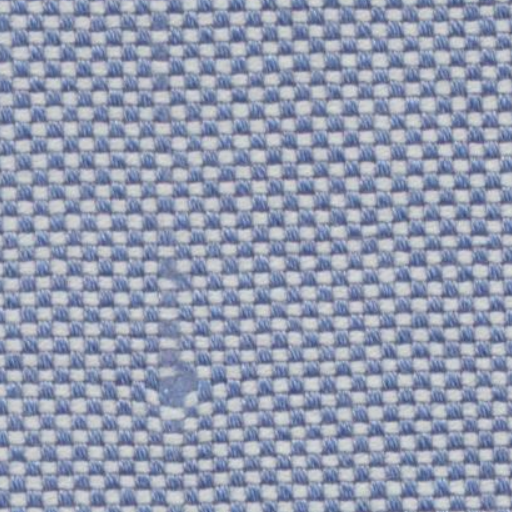MianQiu: (109, 358, 227, 428)
